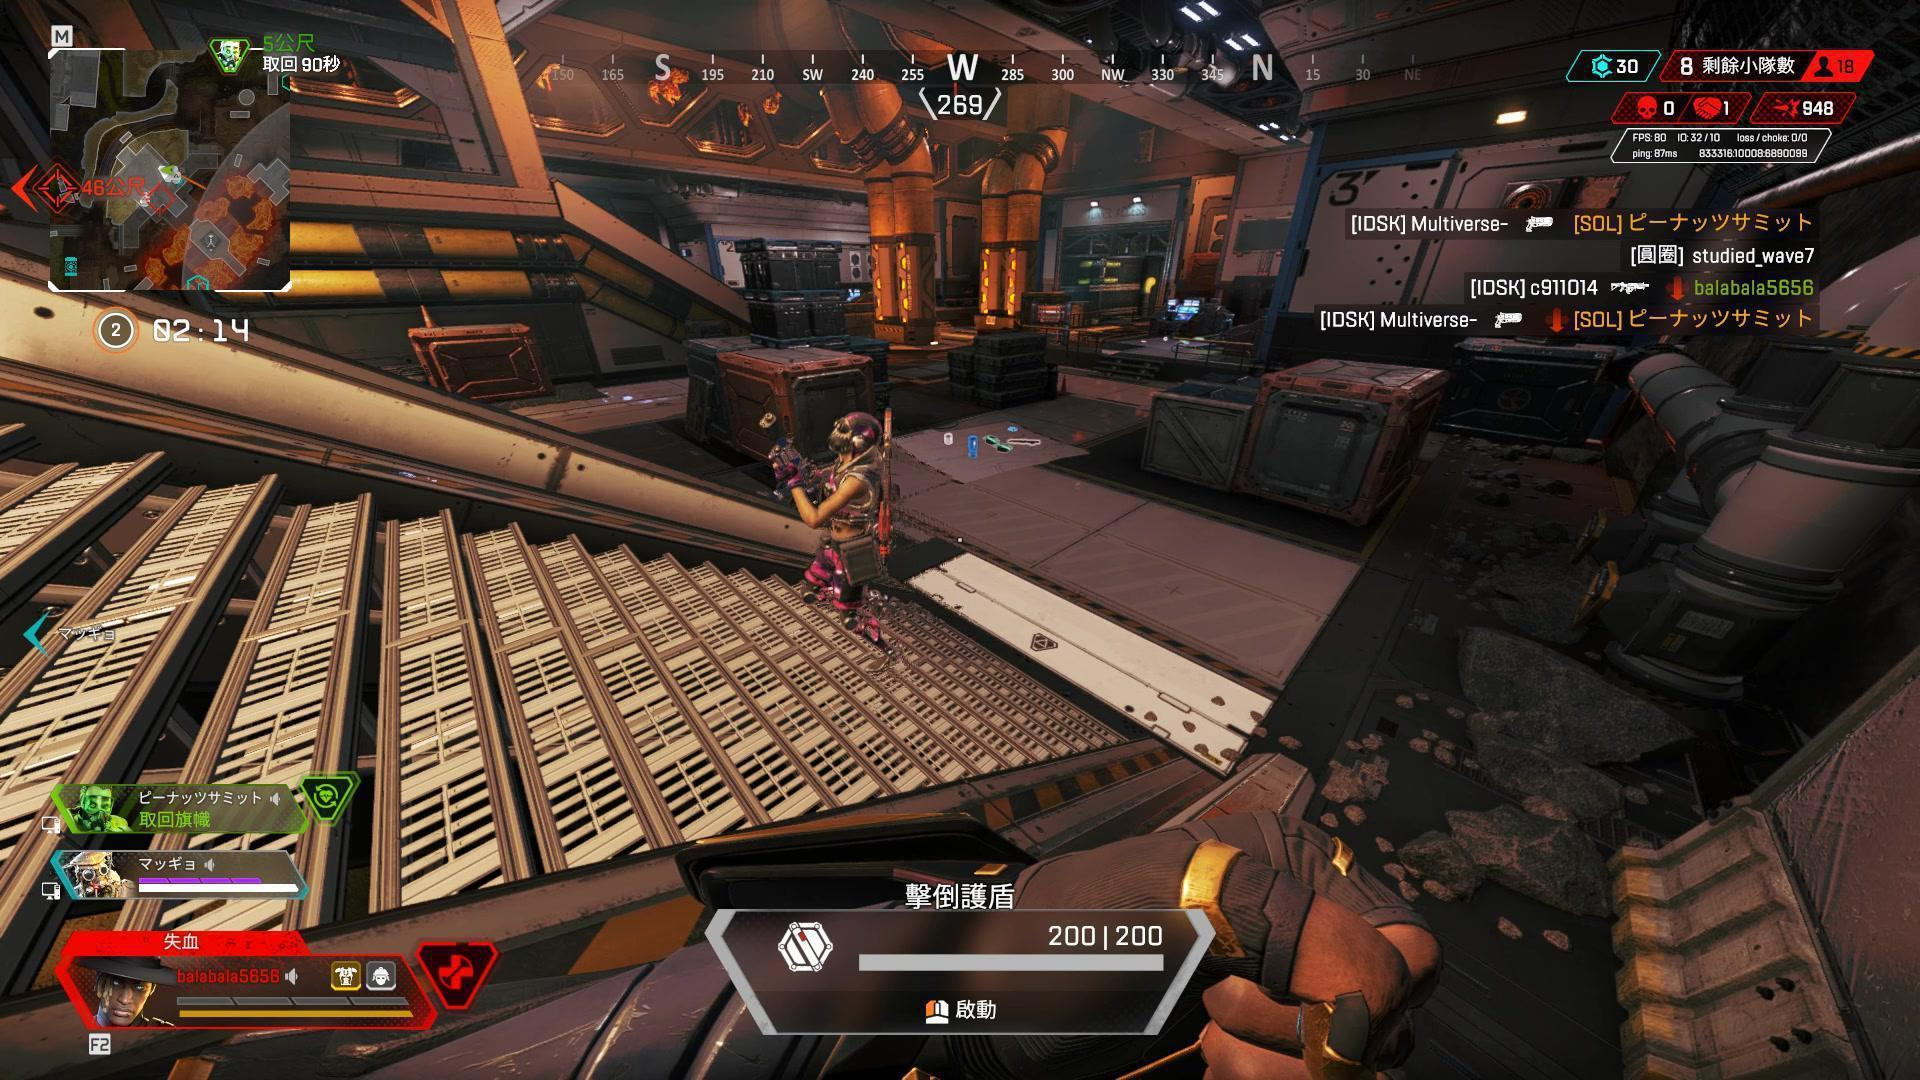avatar: (765, 410, 898, 662)
